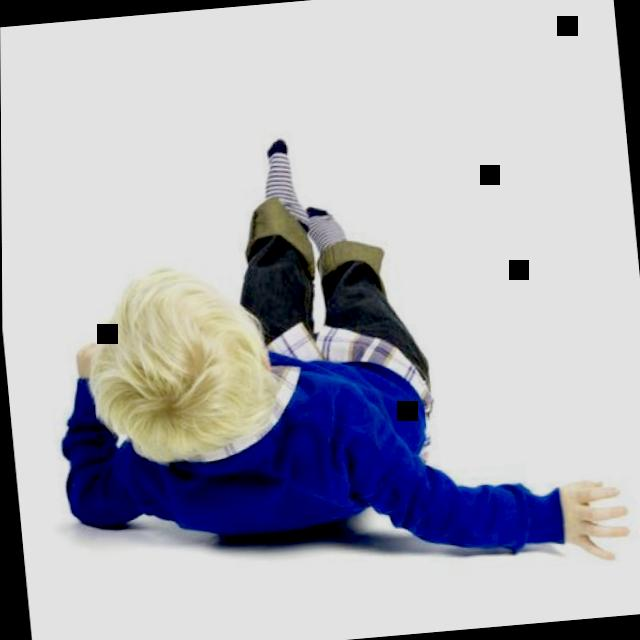Fall-Detected: (2, 54, 635, 640)
